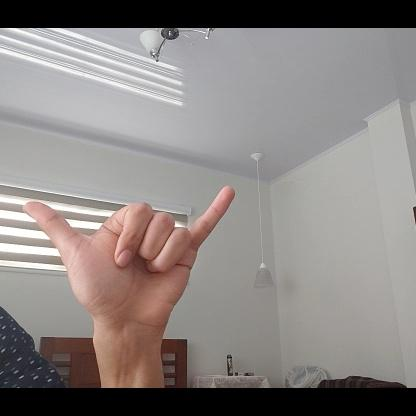Y: (21, 185, 237, 333)
